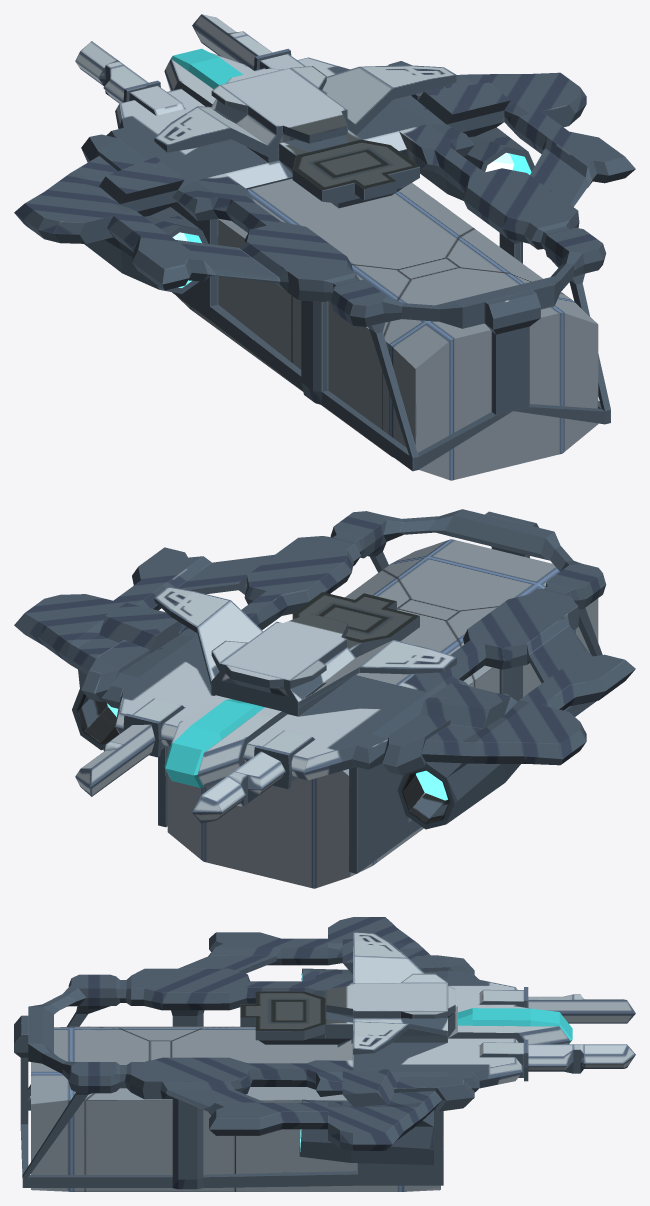
File: Cargo_S_LODGroup.fbx
The picture shows the model from 3 angles, top to bottom: view 1: azimuth 30°, elevation 25°; view 2: azimuth 150°, elevation 25°; view 3: azimuth 270°, elevation 25°; orthographic projection. The views are drawn at different scales.
Parts seen in each view (by area): view 1: Cargo_S_LOD0; view 2: Cargo_S_LOD0; view 3: Cargo_S_LOD0.
Part boxes in pixels (box(x1,y1,x2,y2)): Cargo_S_LOD0: box(14, 14, 635, 480); Cargo_S_LOD0: box(14, 509, 635, 888); Cargo_S_LOD0: box(14, 917, 635, 1191).
Size of what is drawn, in the model's own units: 4.11 by 1.55 by 4.88.
Materials: 4 (1 with a texture image).
